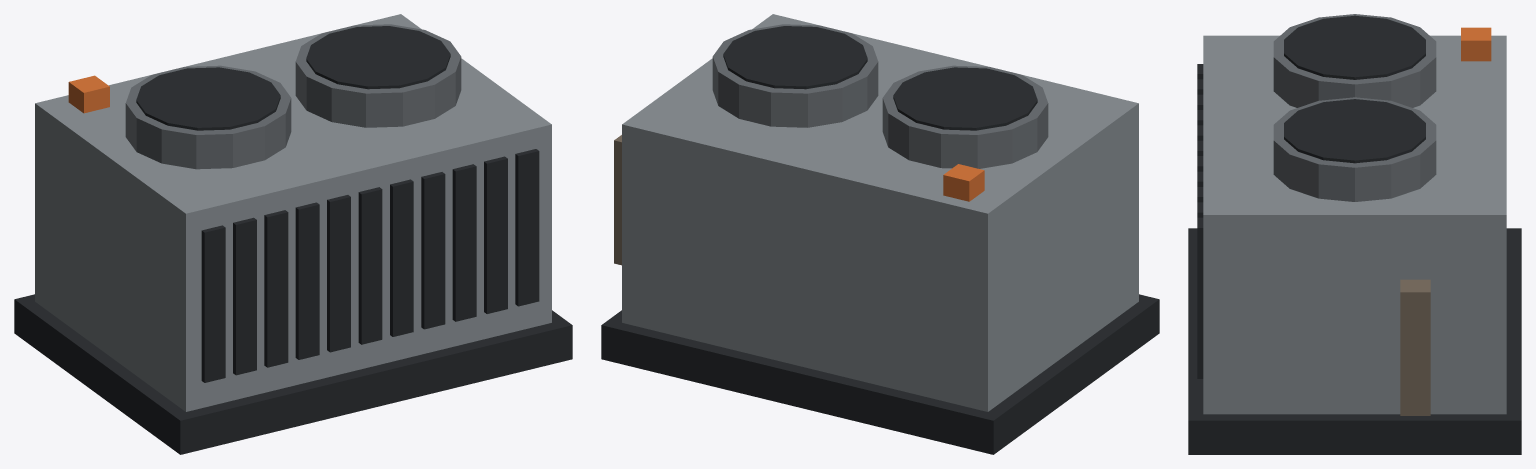
The model's file is cooling-unit.glb.
3 renders of one model, left to right at view 1: azimuth 30°, elevation 25°; view 2: azimuth 150°, elevation 25°; view 3: azimuth 270°, elevation 25°, orthographic.
Parts seen in each view (by area): view 1: cooling-unit; view 2: cooling-unit; view 3: cooling-unit.
Part boxes in pixels (bbox=[...]): cooling-unit: bbox=[14, 14, 572, 454]; cooling-unit: bbox=[601, 14, 1159, 454]; cooling-unit: bbox=[1188, 14, 1521, 454].
Bounding box in the file's own units: 3.25 × 1.97 × 2.2.
